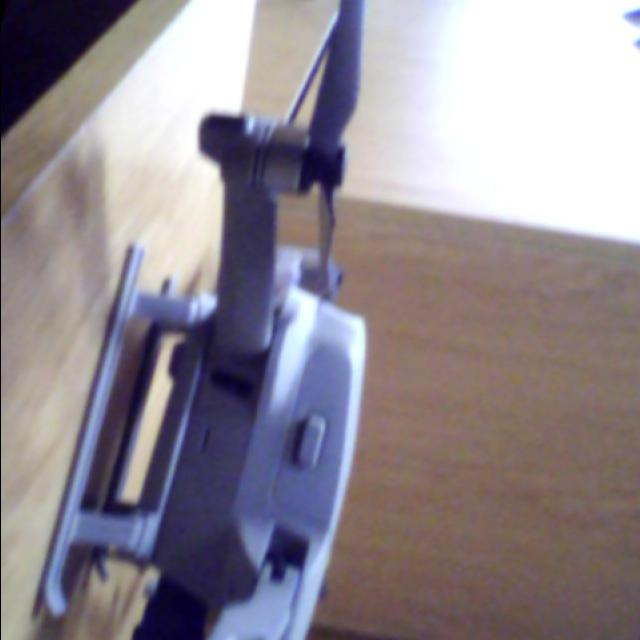drone: (21, 0, 435, 640)
